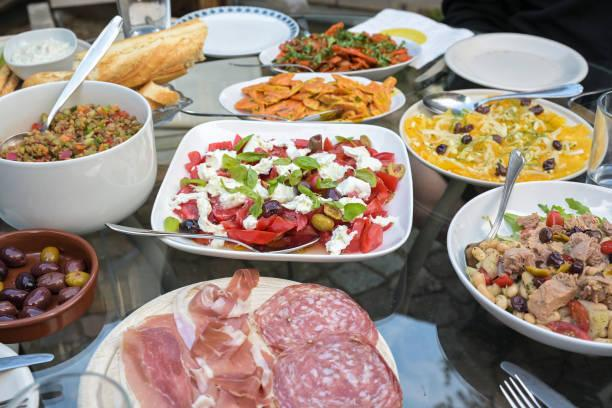Braised Crucian Carp: (149, 118, 409, 260), (1, 78, 156, 232), (398, 90, 593, 188), (219, 73, 405, 125), (254, 34, 419, 81)
